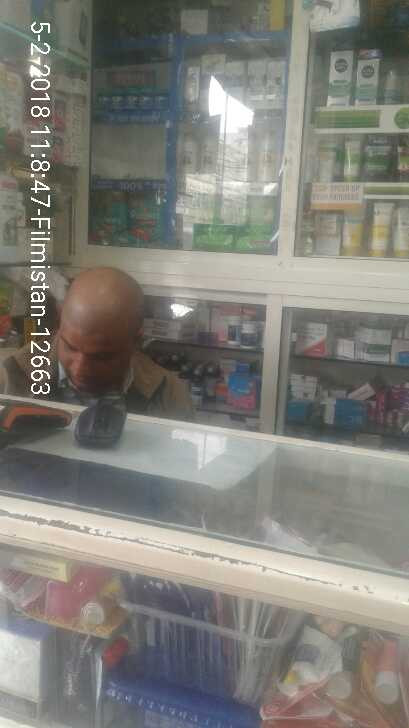vicks: (93, 83, 174, 110)
